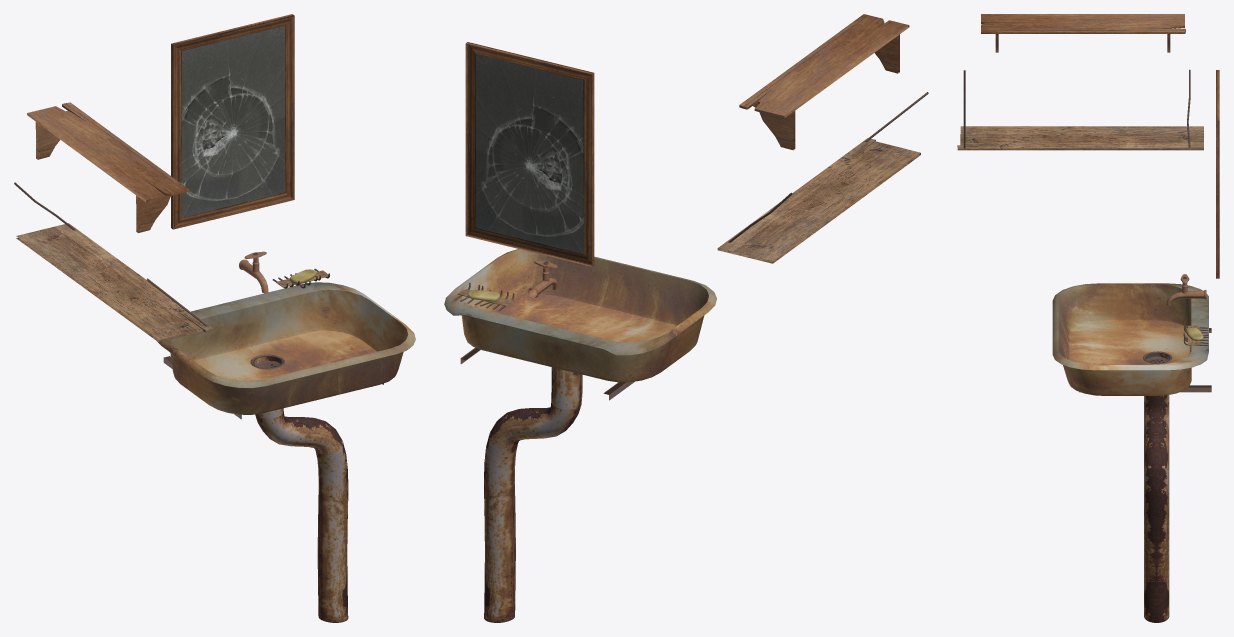
The model's file is bathroom_props.FBX.
3 renders of one model, left to right at view 1: azimuth 30°, elevation 25°; view 2: azimuth 150°, elevation 25°; view 3: azimuth 270°, elevation 25°, orthographic. The views are drawn at different scales.
Parts seen in each view (by area): view 1: bath_sink, bath_mirror, shelf_2, shelf_1, bath_soap, bath_tap; view 2: bath_sink, bath_mirror, shelf_2, shelf_1, bath_soap; view 3: bath_sink, shelf_2, shelf_1, bath_mirror, bath_soap, bath_tap.
Boxes of the visible parts, <box> form: bath_sink: <box>157,282,415,622</box>; bath_mirror: <box>171,14,294,229</box>; shelf_2: <box>14,182,212,342</box>; shelf_1: <box>27,102,189,232</box>; bath_soap: <box>272,268,329,288</box>; bath_tap: <box>239,251,268,293</box>; bath_sink: <box>444,249,716,622</box>; bath_mirror: <box>465,42,594,266</box>; shelf_2: <box>717,92,928,263</box>; shelf_1: <box>739,14,909,150</box>; bath_soap: <box>455,282,514,311</box>; bath_sink: <box>1052,283,1211,622</box>; shelf_2: <box>957,69,1203,150</box>; shelf_1: <box>981,14,1185,52</box>; bath_mirror: <box>1216,70,1219,278</box>; bath_soap: <box>1183,322,1208,345</box>; bath_tap: <box>1166,274,1206,305</box>.
Size of the model in its own units: 188 by 306 by 147.
